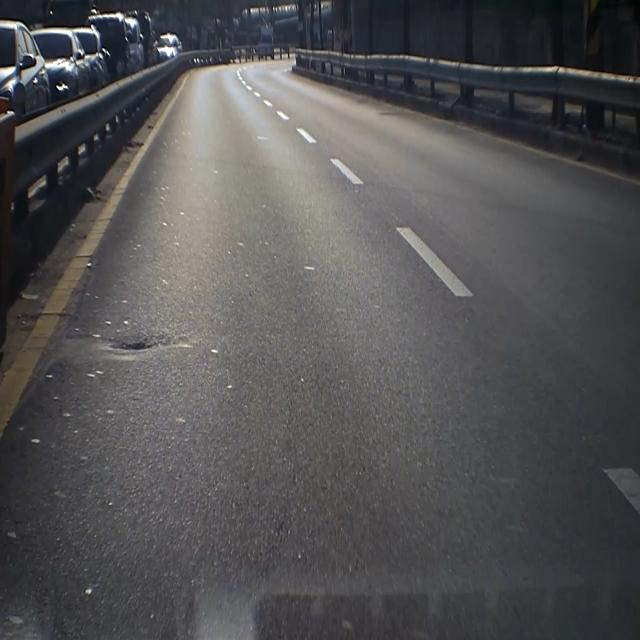Pothole: (100, 324, 177, 362)
